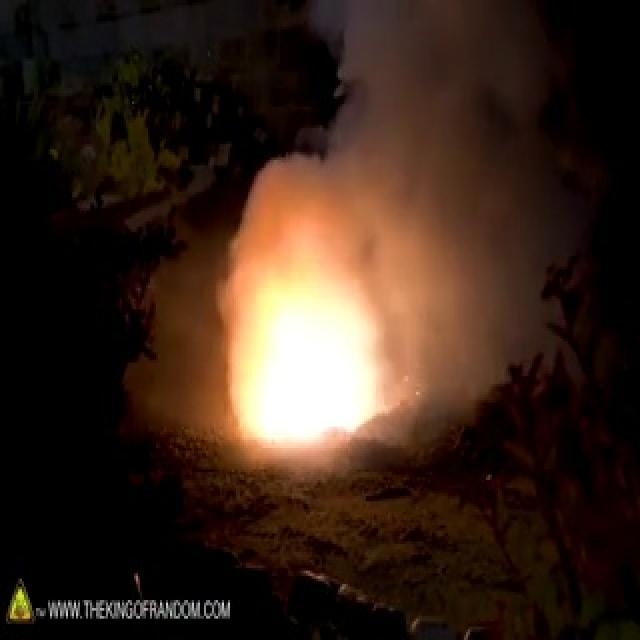fire: (238, 260, 404, 447)
